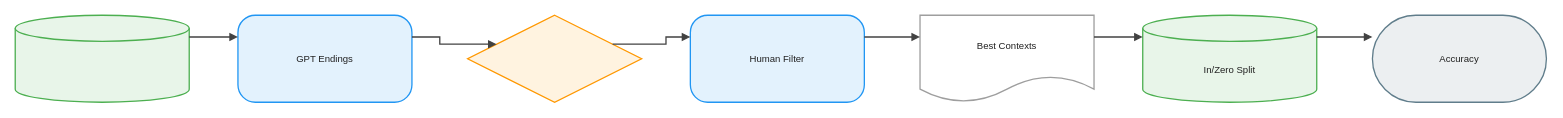
Image size: 1563x118. Some labels were removed from this diagram. The shapes that lost their labels are listed below. From the top down, each one's centre as x and y in pixels, then its label:
At point 101,58: "Sources".
At point 554,58: "BERT AF".
